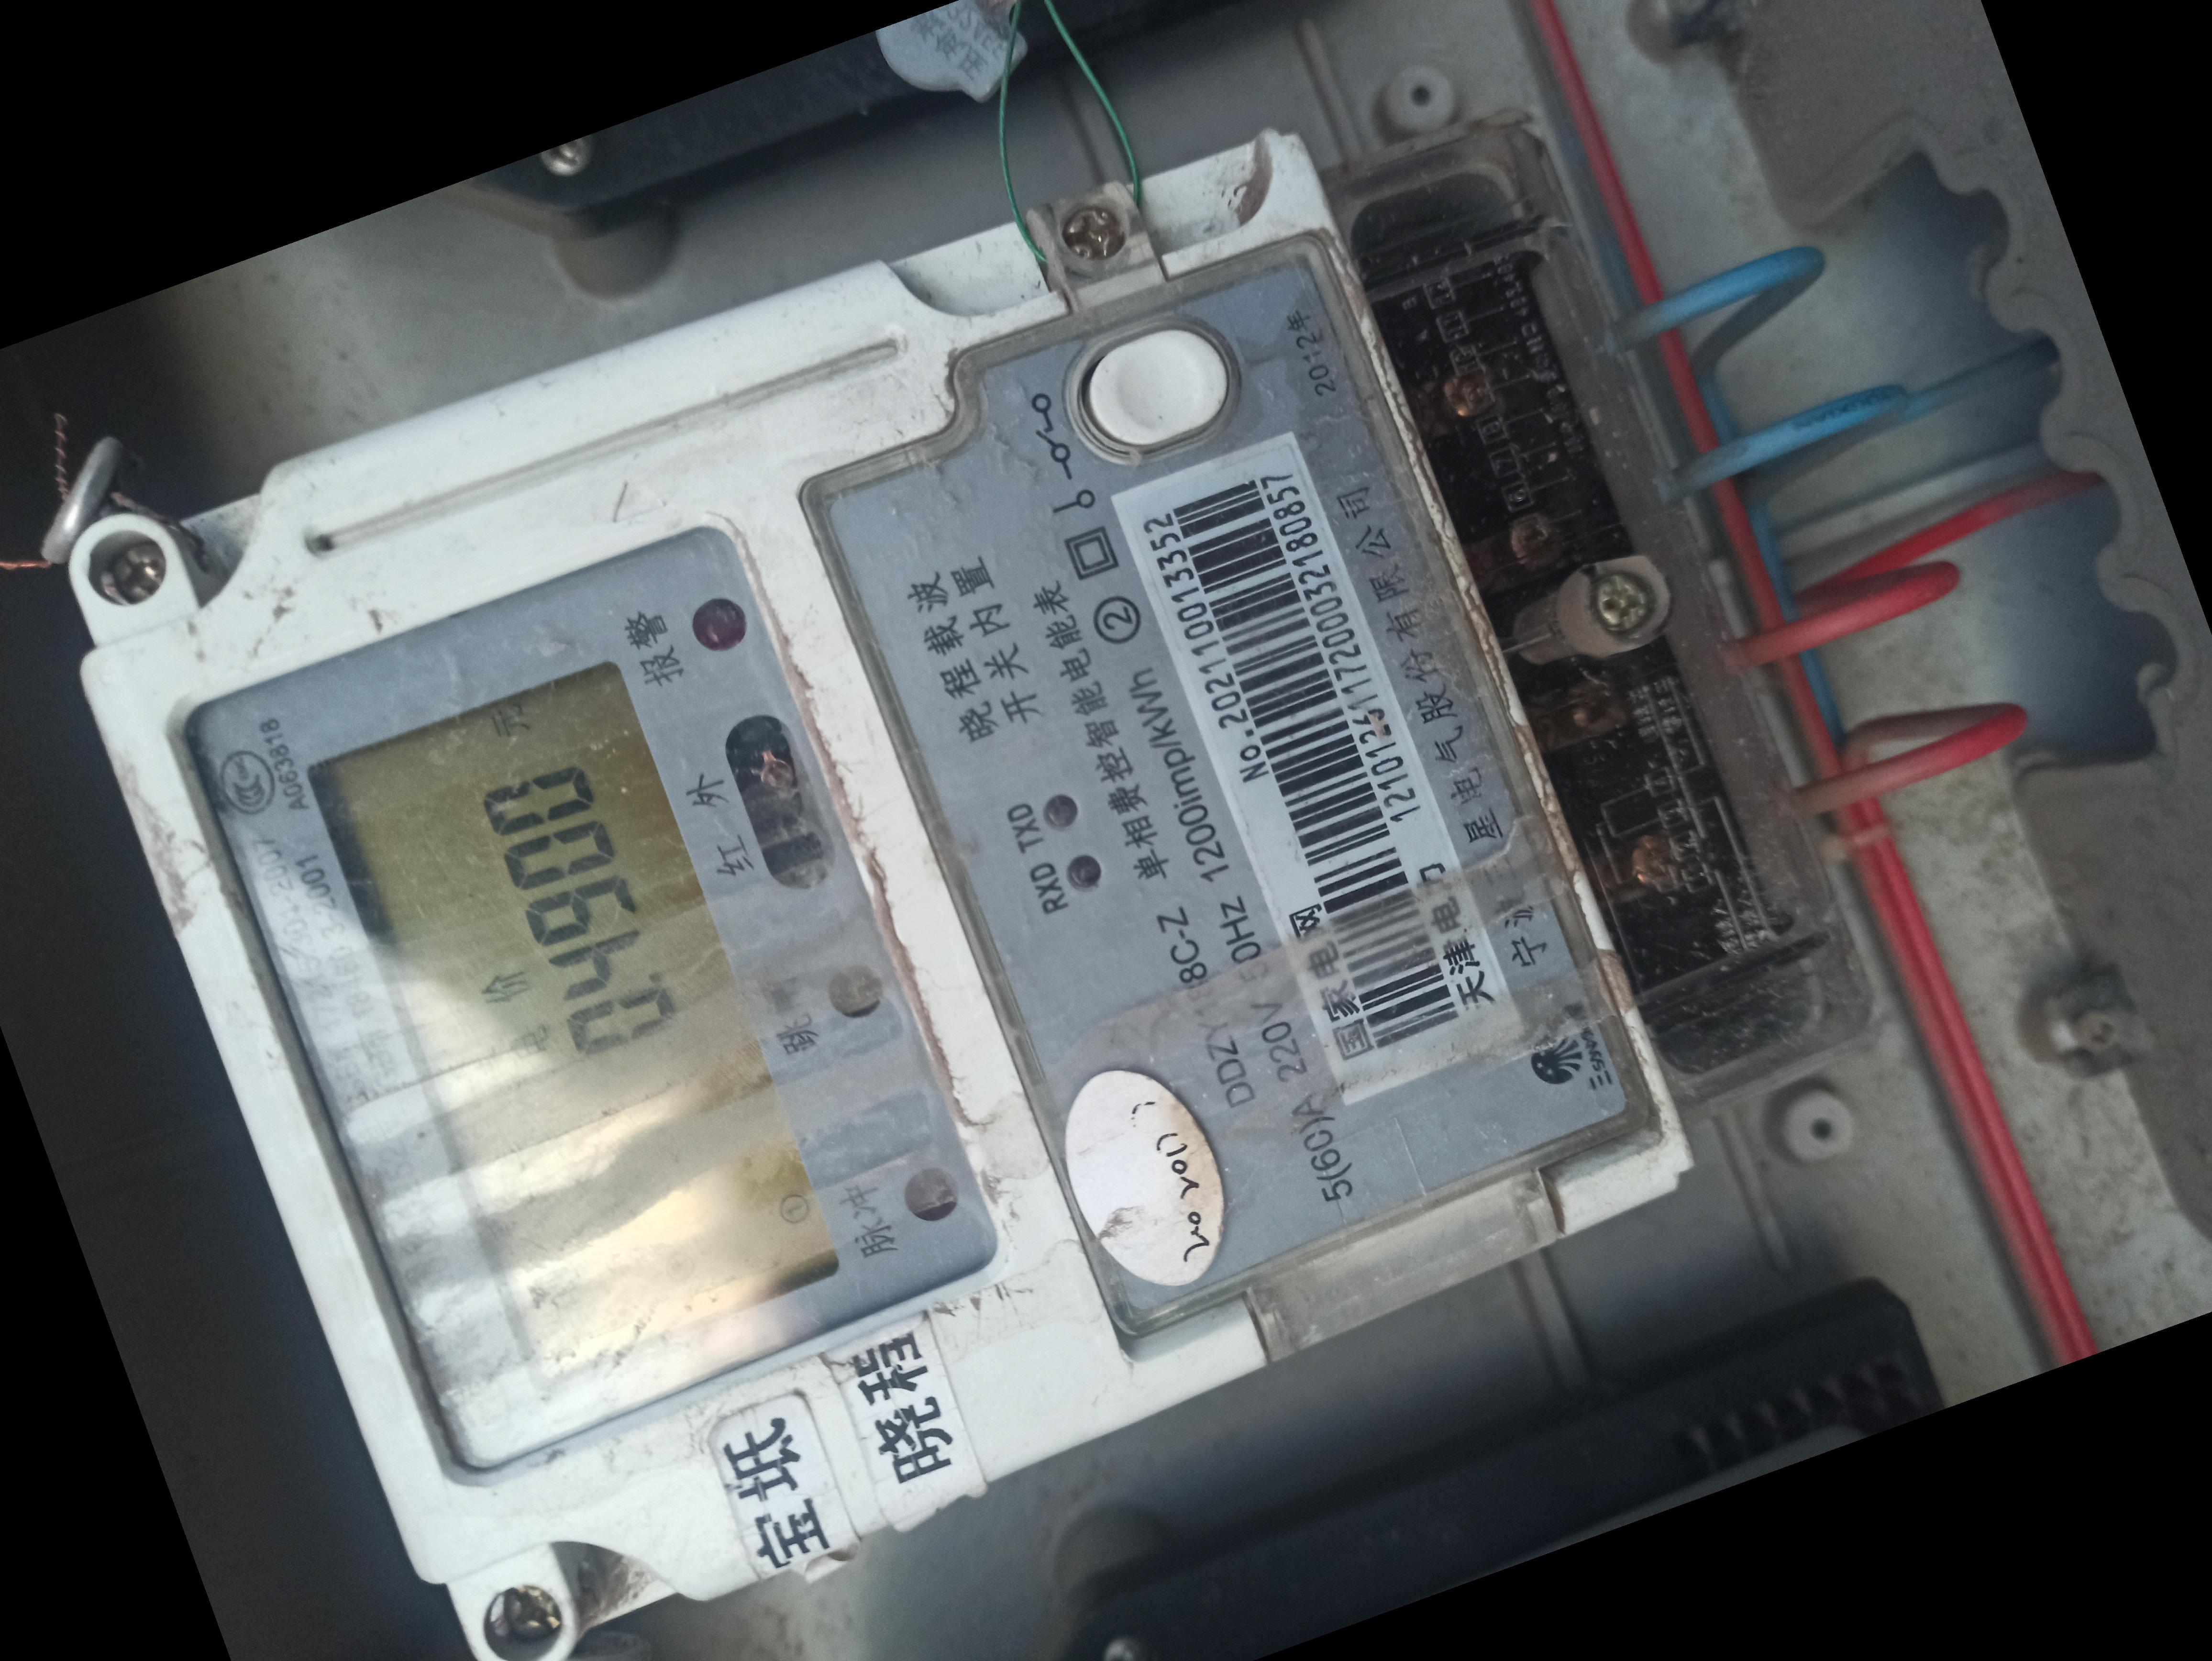digital: (79, 120, 1685, 1661)
